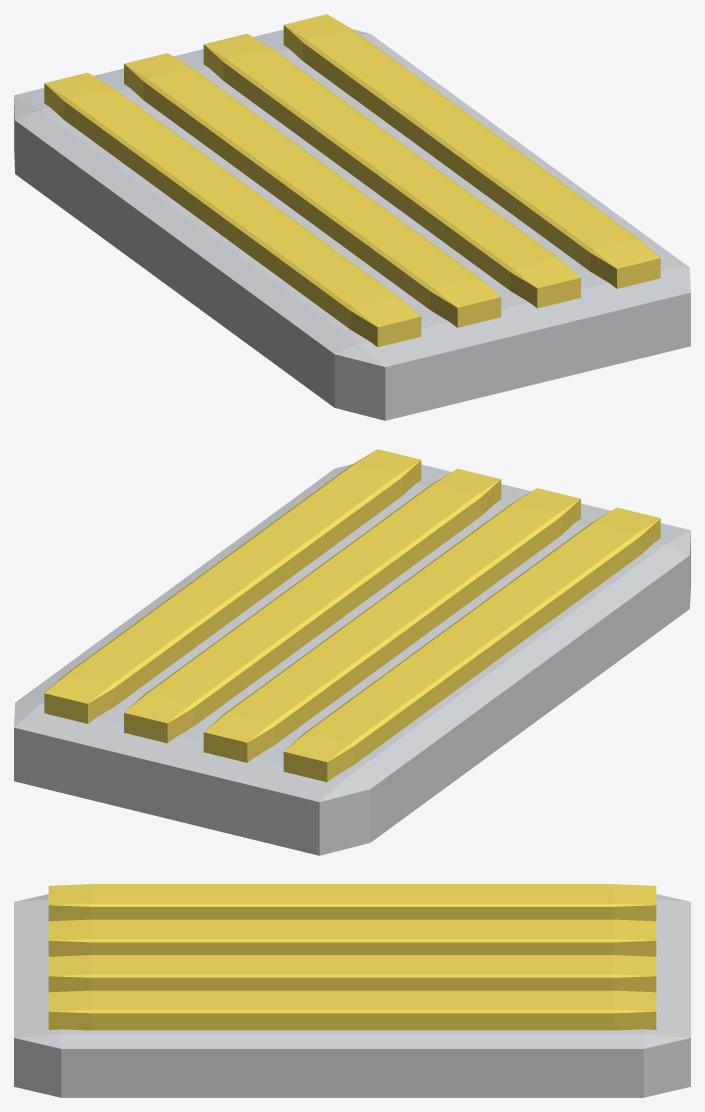
The model's file is b12_entrance_threshold_ramp.glb.
3 views of the same model, one above another, from view 1: azimuth 30°, elevation 25°; view 2: azimuth 150°, elevation 25°; view 3: azimuth 270°, elevation 25° (orthographic). The views are drawn at different scales.
Visible parts, largest first — view 1: b12_entrance_threshold_ramp; view 2: b12_entrance_threshold_ramp; view 3: b12_entrance_threshold_ramp.
Part boxes in pixels (left/top/right/bottom): b12_entrance_threshold_ramp: left=14, top=14, right=690, bottom=420; b12_entrance_threshold_ramp: left=14, top=449, right=690, bottom=855; b12_entrance_threshold_ramp: left=14, top=884, right=690, bottom=1097.
Bounding box in the file's own units: 1.38 × 0.31 × 2.51.
